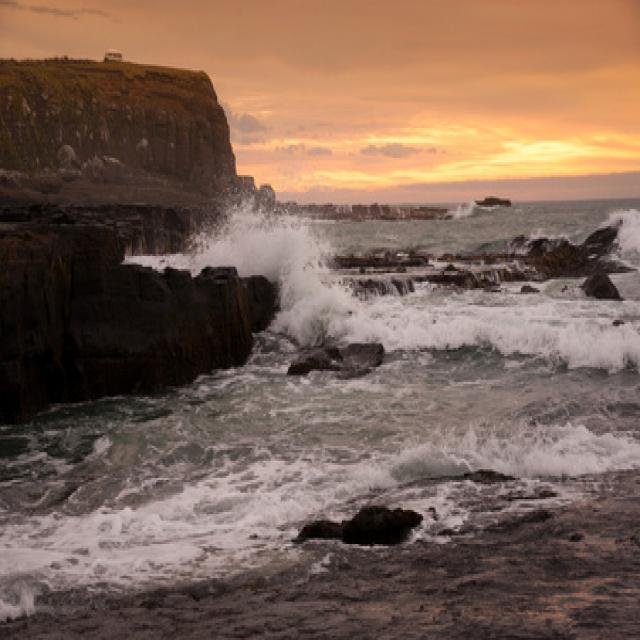reef: (316, 184, 628, 306)
